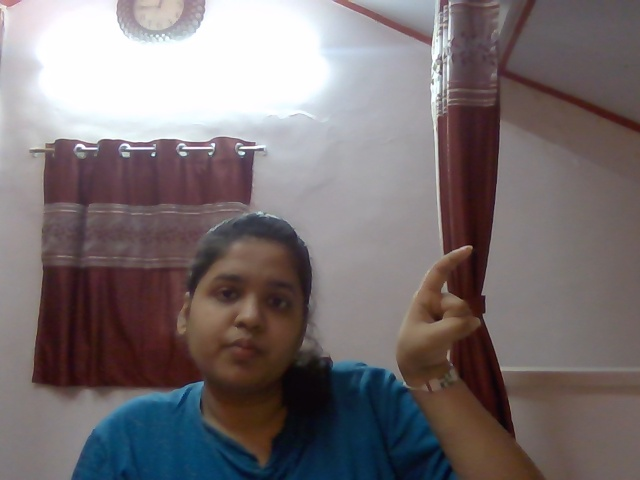x: (394, 229, 496, 392)
